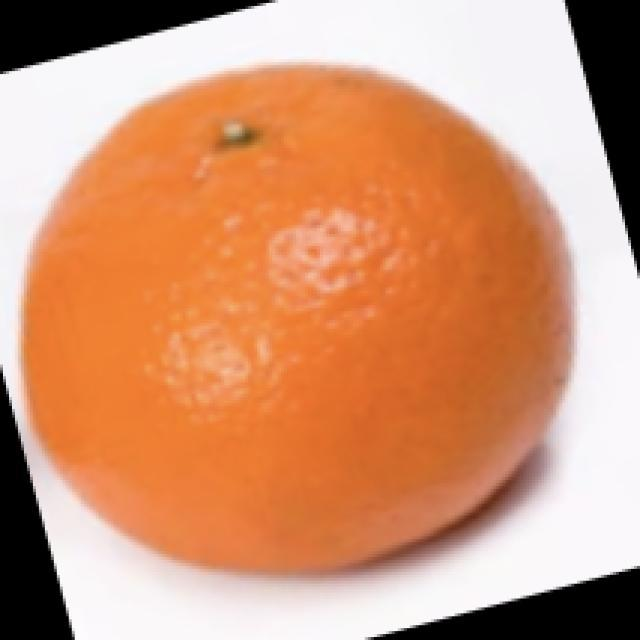matang: (23, 67, 580, 577)
